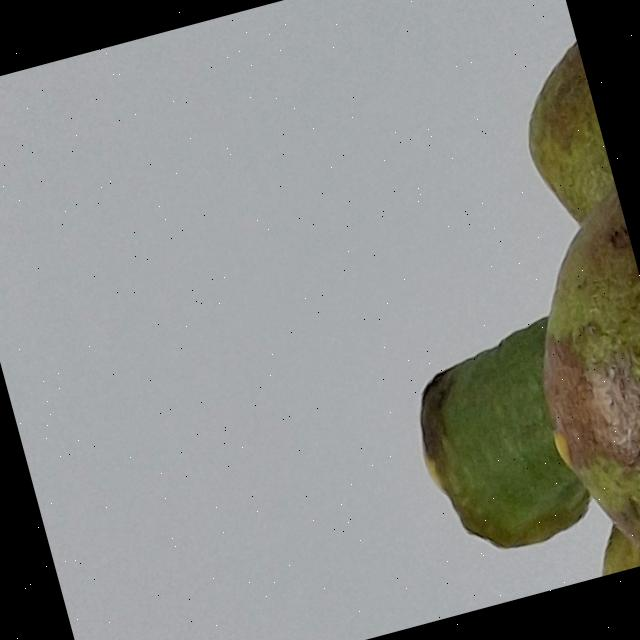mangosteen: (276, 0, 640, 619)
